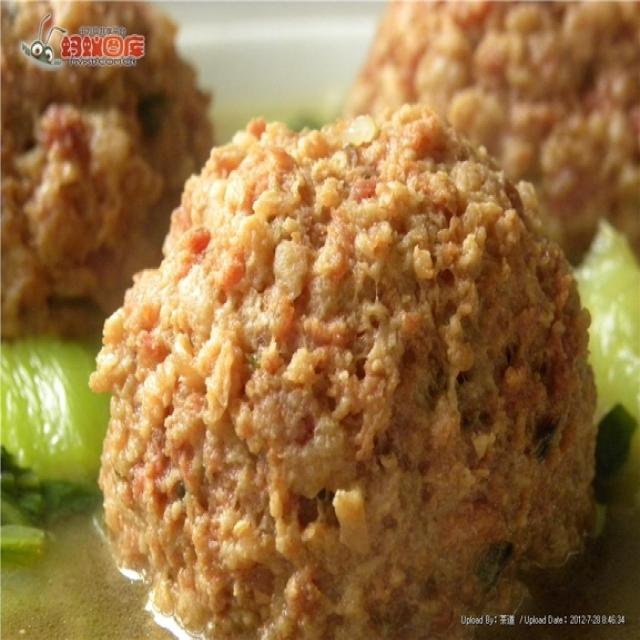猪肉菜式: (41, 31, 609, 625)
